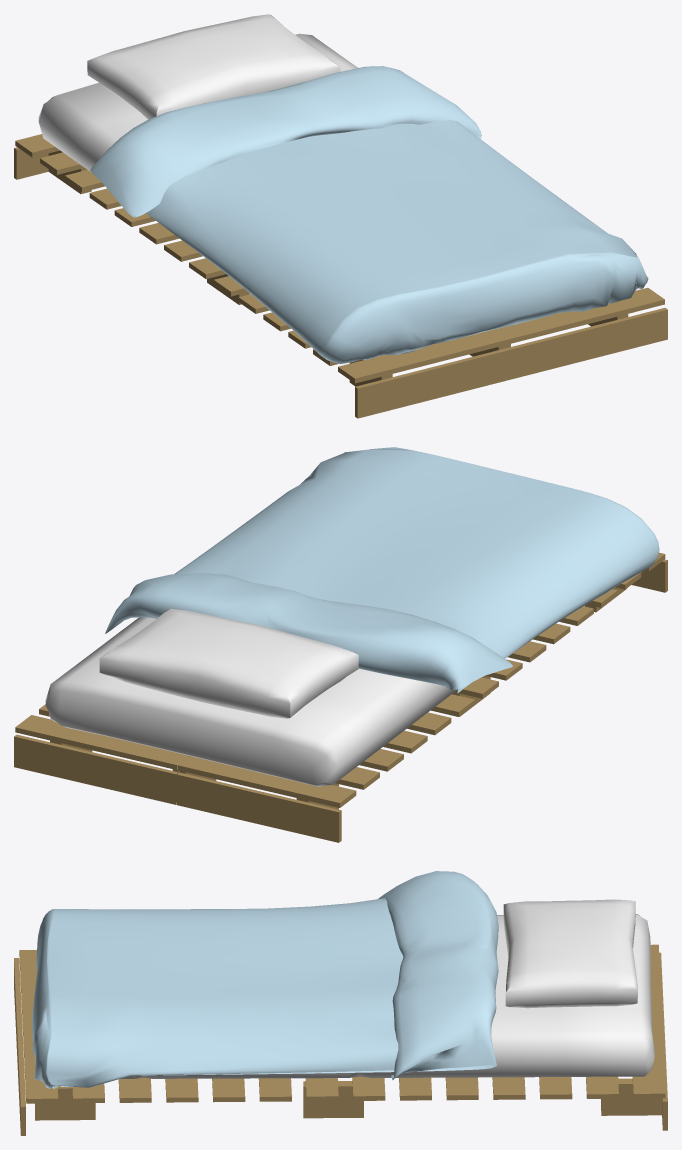
File: IKEA-Grankulla_Futon_Single_Bed-3D.obj
The picture shows the model from 3 angles, top to bottom: view 1: azimuth 30°, elevation 25°; view 2: azimuth 150°, elevation 25°; view 3: azimuth 270°, elevation 25°; orthographic projection. The views are drawn at different scales.
Visible parts, largest first — view 1: Line01, Box04, Object04, Line02; view 2: Line01, Line02, Box04, Object04; view 3: Line01, Box04, Line02, Object04.
Boxes of the visible parts, left/top/right/bottom form: Line01: left=90, top=66, right=648, bottom=364; Box04: left=14, top=134, right=667, bottom=418; Object04: left=87, top=14, right=340, bottom=119; Line02: left=38, top=33, right=383, bottom=356; Line01: left=105, top=447, right=659, bottom=693; Line02: left=45, top=617, right=457, bottom=786; Box04: left=14, top=552, right=667, bottom=842; Object04: left=99, top=608, right=358, bottom=718; Line01: left=32, top=871, right=498, bottom=1088; Box04: left=14, top=944, right=667, bottom=1135; Line02: left=120, top=914, right=654, bottom=1078; Object04: left=503, top=899, right=637, bottom=1008.
Size of the model in its own units: 1379 by 467 by 2239.
